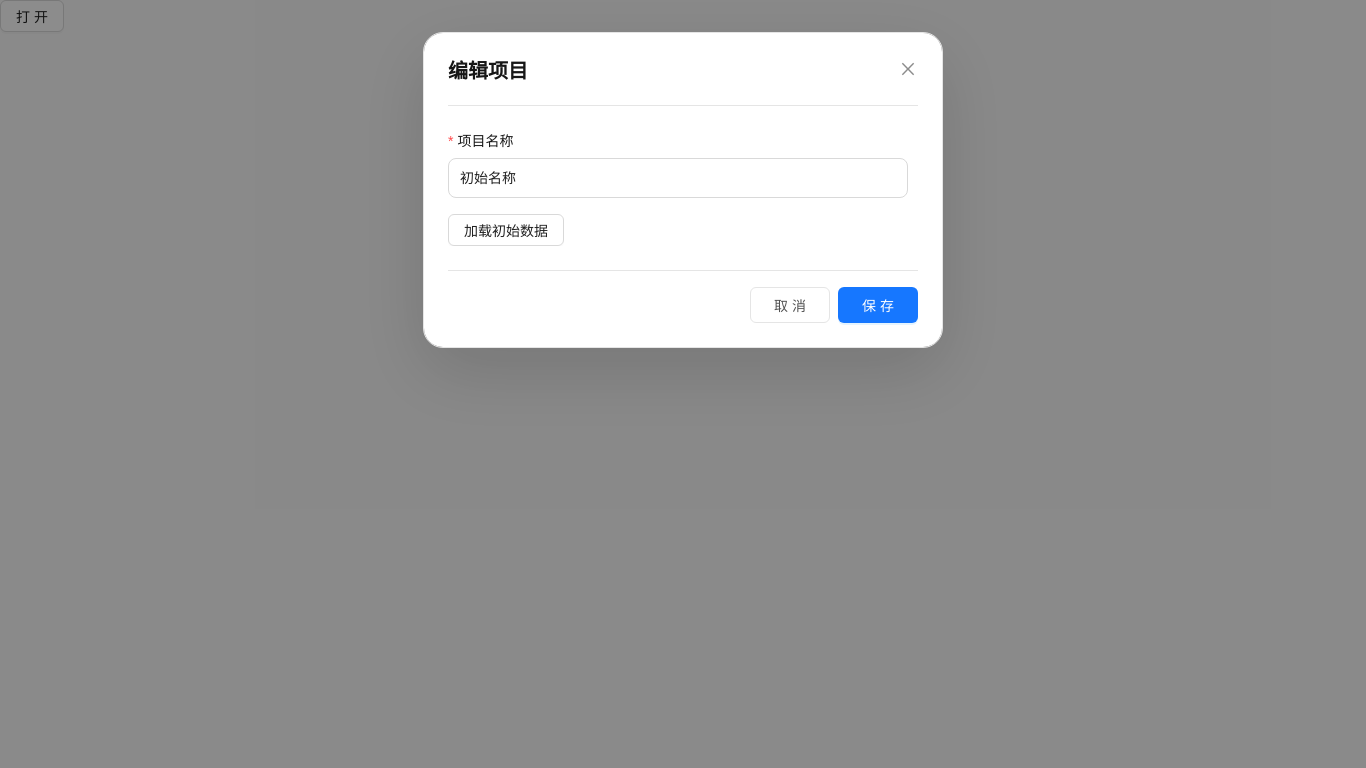
it: form dialog session › prevents duplicate requests, retains input after failure and permits retry
This screenshot has width=1366, height=768.
Later steps or results of the test are not shown.
Replace the text in the field labelled "项目名称" with "待保存" at point(678, 178), box 448,158 -> 908,198
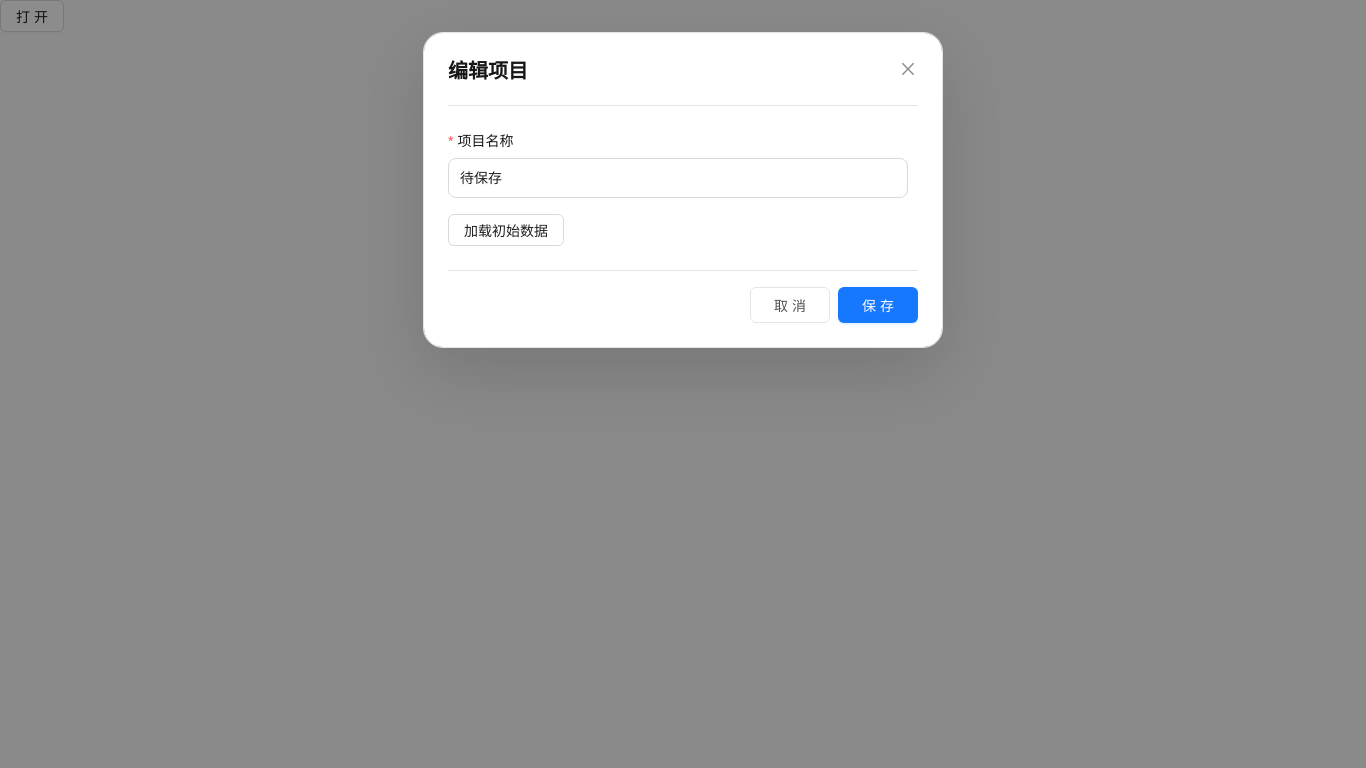
Click the button "保 存" at point(878, 305), box 838,287 -> 918,323
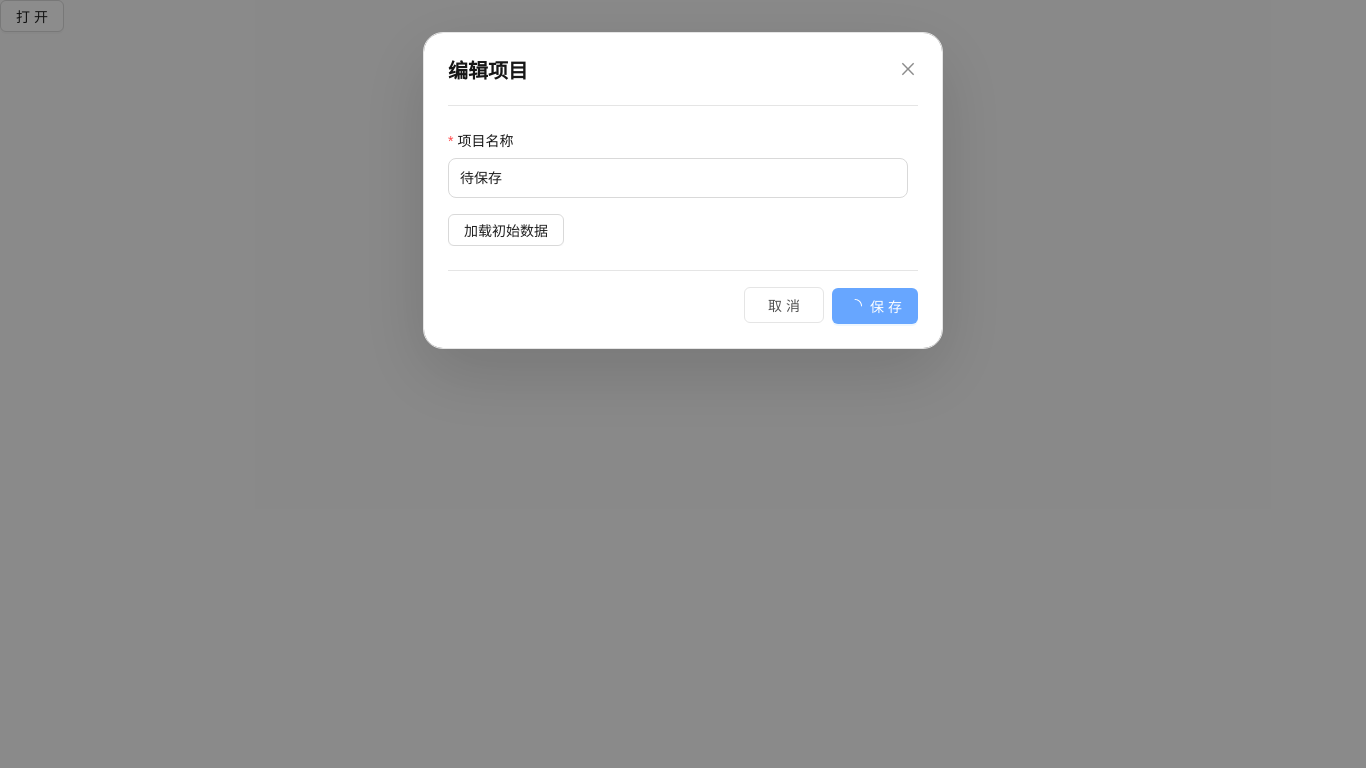
Click the button "保 存" at point(875, 306), box 832,288 -> 918,324
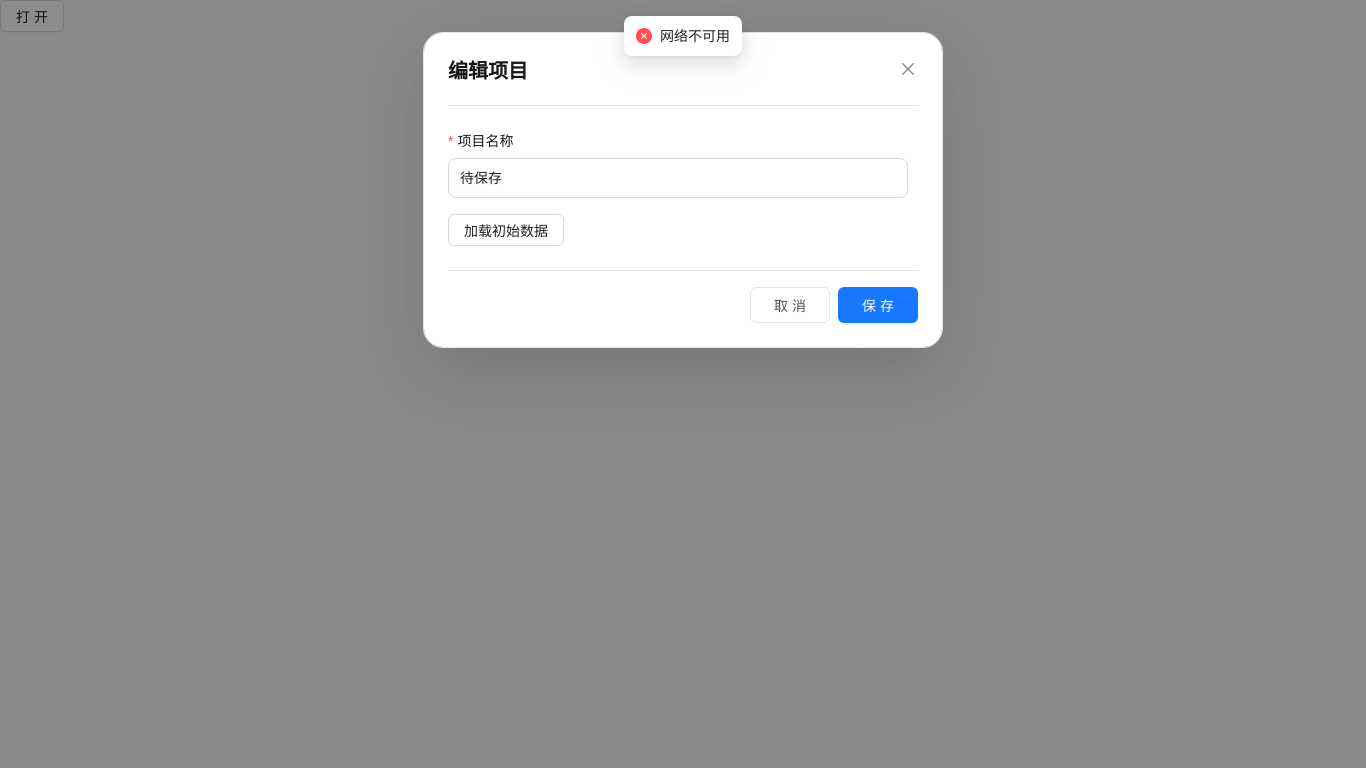
Result: the text "网络不可用" is shown at 660,25 -> 730,47
